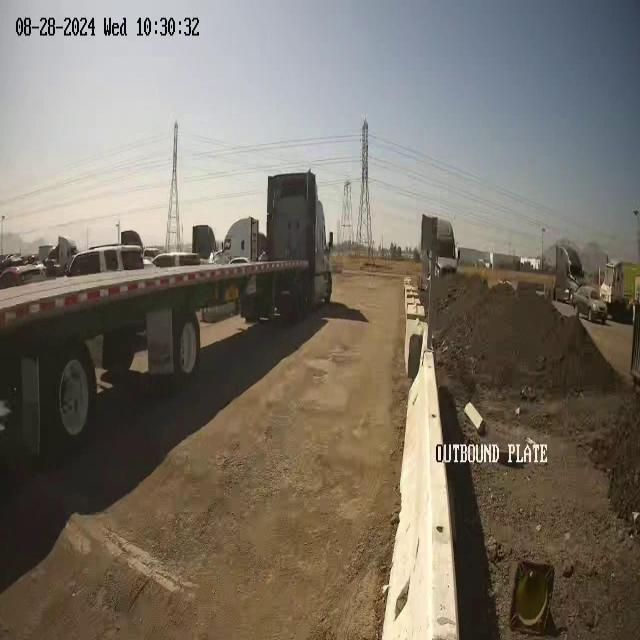TRUCK_IN: (1, 168, 333, 462)
